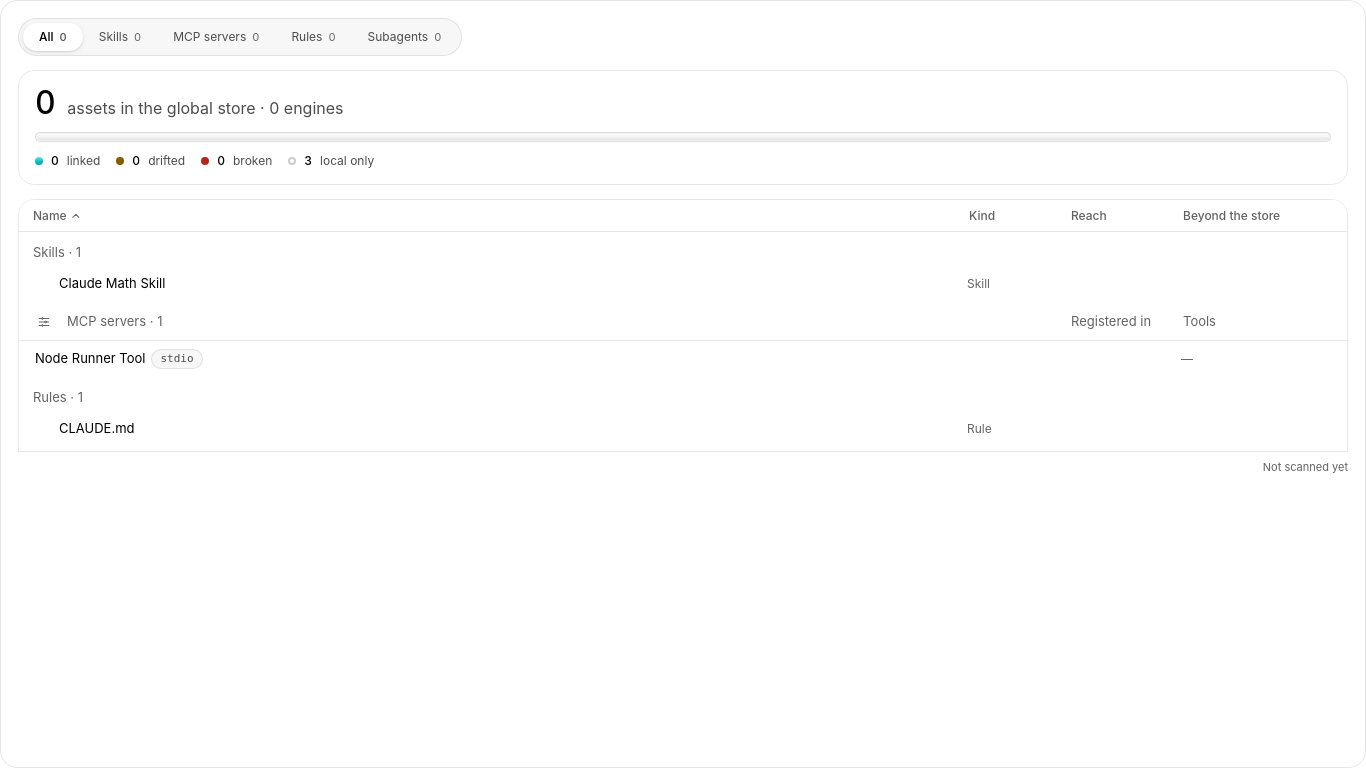
Test: ProfilePane Component-Level Filtering Integration › should update rendered lists correctly when category cards are toggled
Expected: the text "Claude Math Skill" is shown, [59,274,165,293]
Expected: the text "Node Runner Tool" is shown, [35,349,146,368]
Click the tab "MCP servers 0".
click(216, 37)  # box [157,23,275,51]
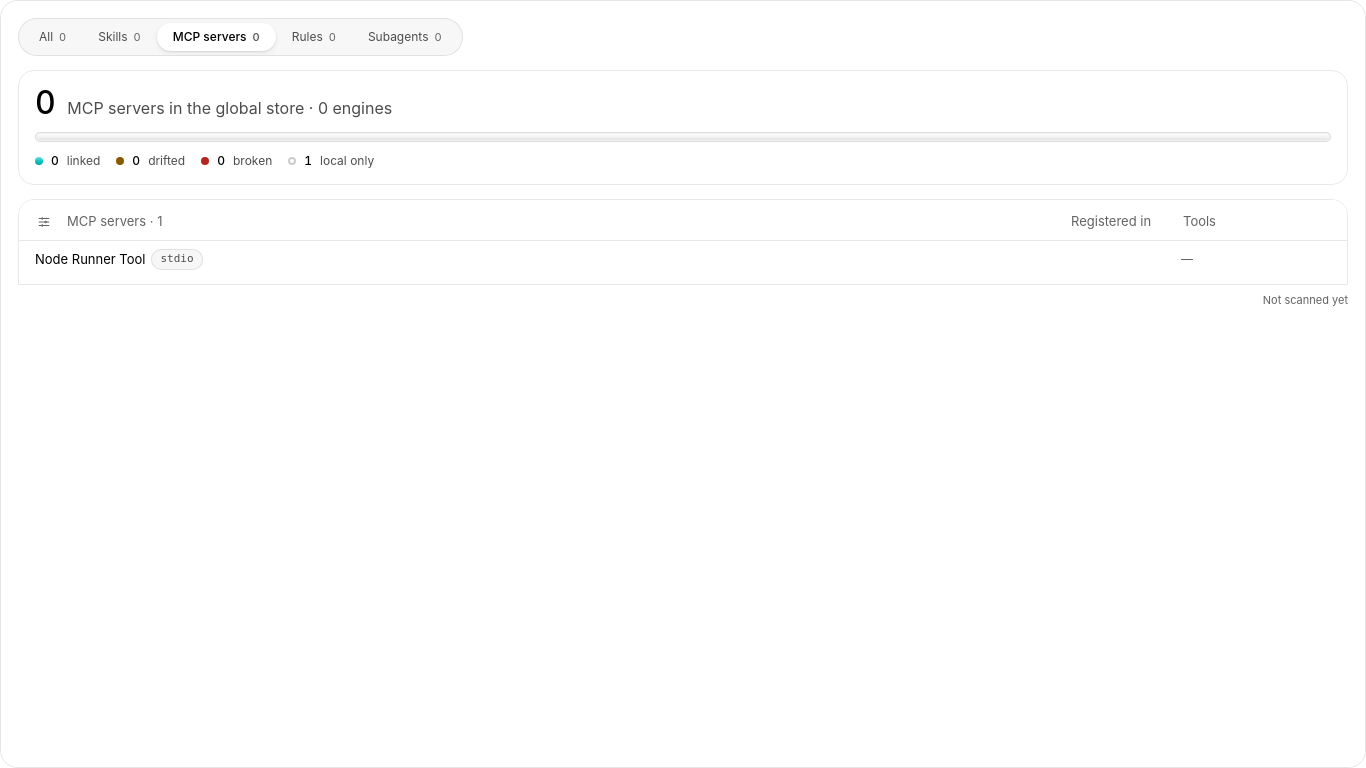
Expected: the text "Node Runner Tool" is shown, [35,250,146,269]
Expected: the text "Claude Math Skill" is gone
Expected: the text "CLAUDE.md" is gone
Click the tab "Skills 0".
click(119, 37)  # box [82,23,157,51]
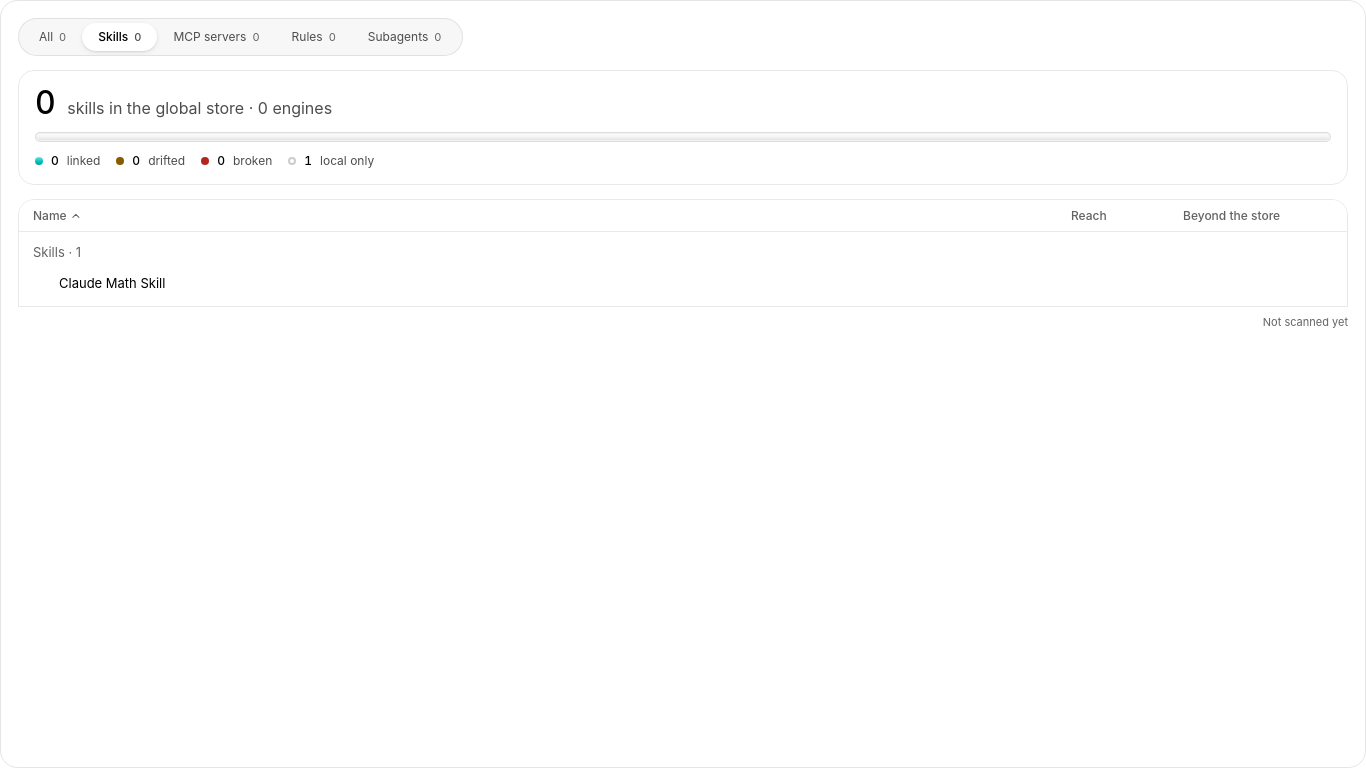
Expected: the text "CLAUDE.md" is not shown
Expected: the text "Claude Math Skill" is shown, [59,274,165,293]
Expected: the text "Node Runner Tool" is gone
# Click on "Skills" card again to clear filter back to All
Click the tab "Skills 0".
click(120, 37)  # box [82,23,157,51]
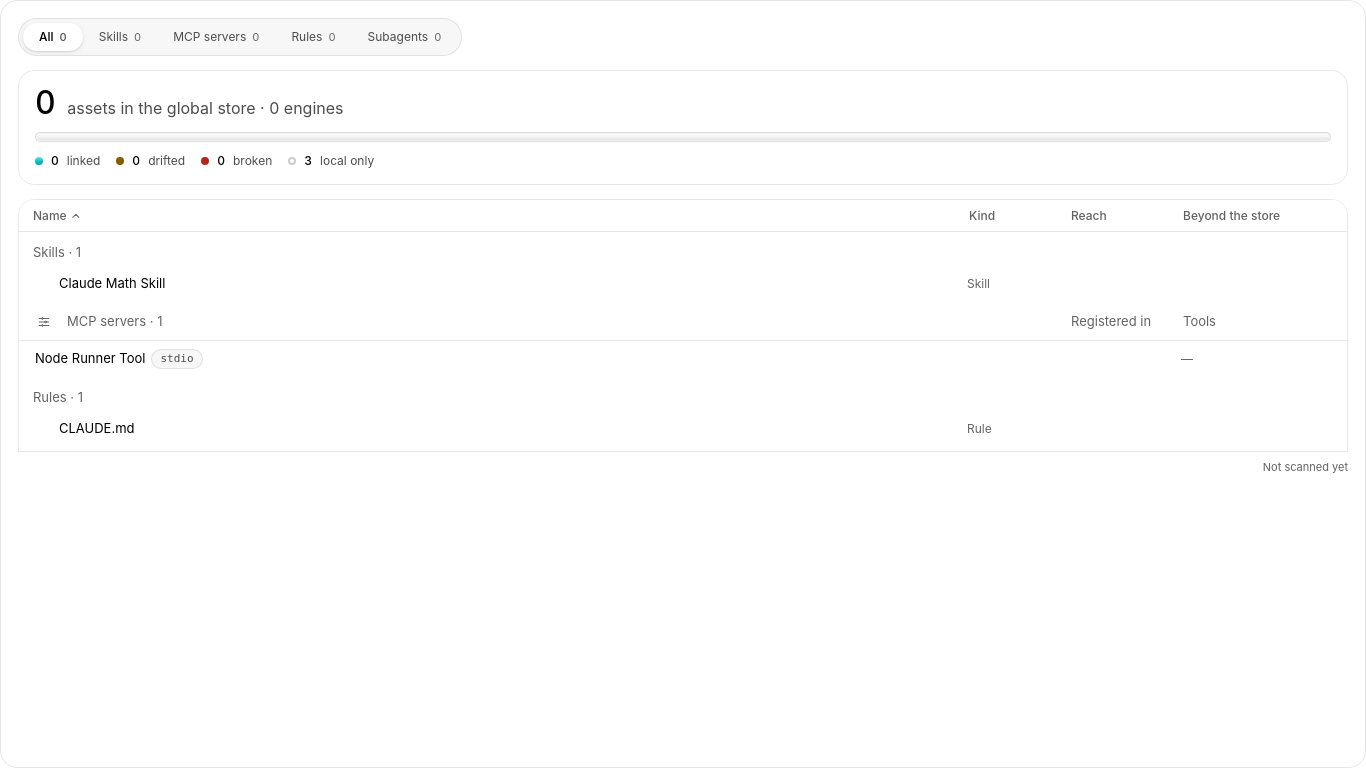
Expected: the text "Claude Math Skill" is shown, [59,274,165,293]
Expected: the text "Node Runner Tool" is shown, [35,349,146,368]
Expected: the text "CLAUDE.md" is shown, [59,419,134,438]
